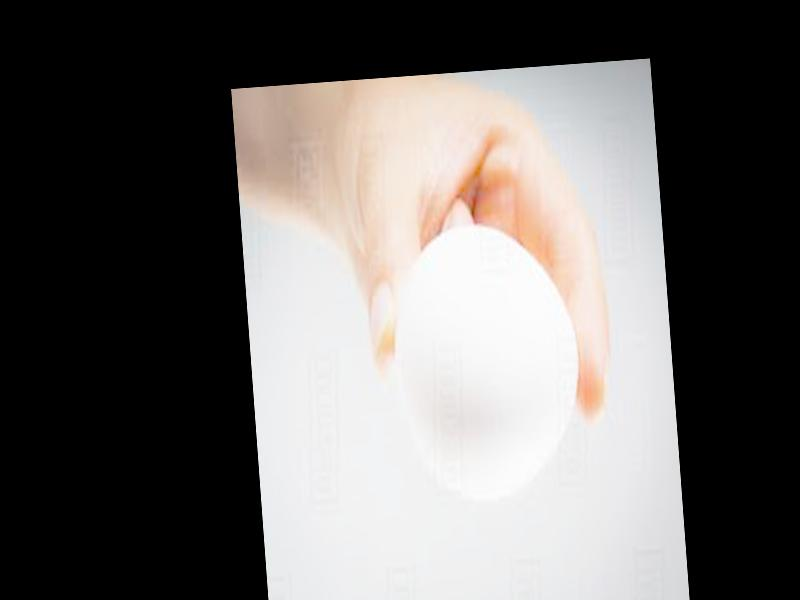Eggs: (389, 220, 587, 505)
